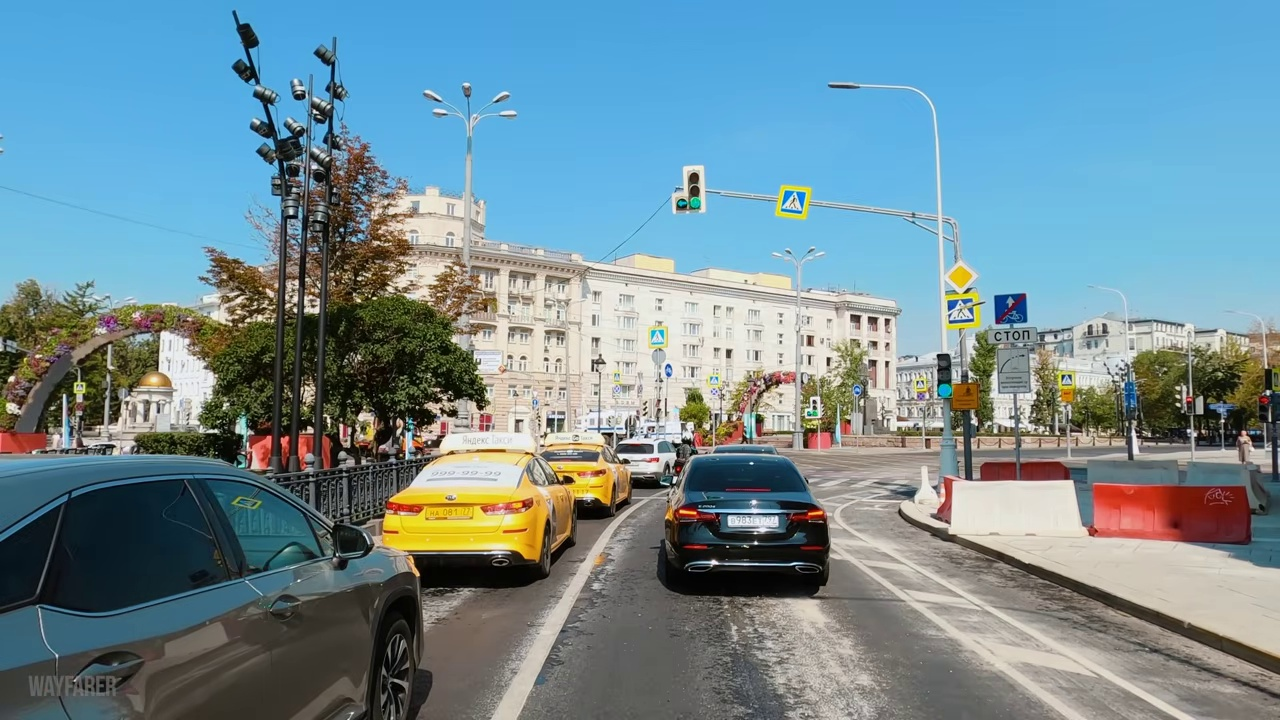acesa: (946, 265, 974, 290)
apagada: (426, 79, 521, 140)
